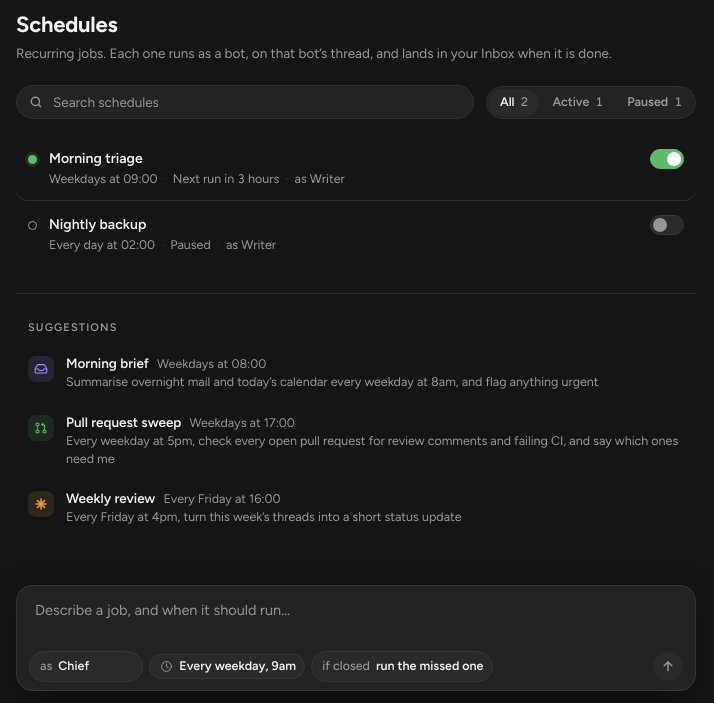
Test case: finding one in a list of them › filters to active and paused, and counts both
Click the button "Paused 1". click: (655, 102)
box: [616,89,693,116]
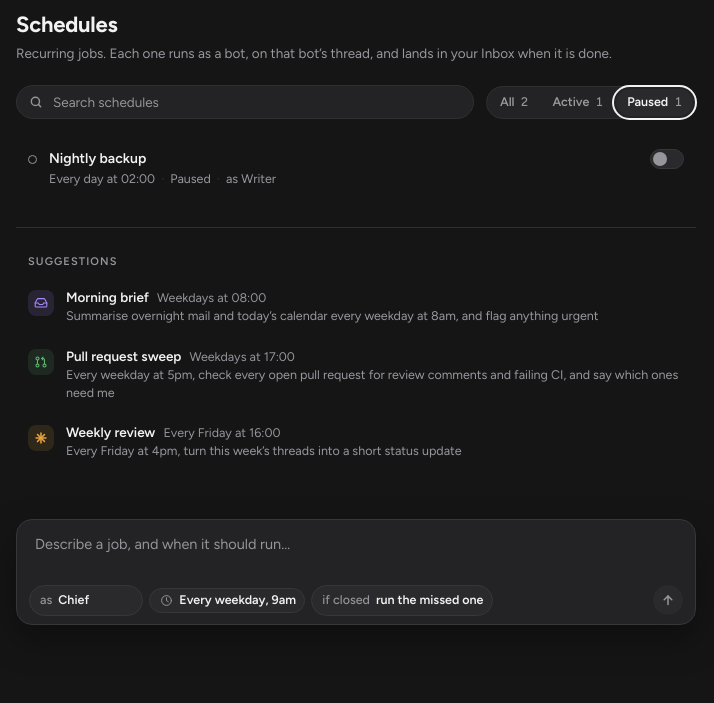
expect the text "Nightly backup" is shown: met, box [49,150,146,168]
expect the button "Morning triage" is gone: met
Click the button "Active 1". click: (578, 102)
box: [541,89,614,116]
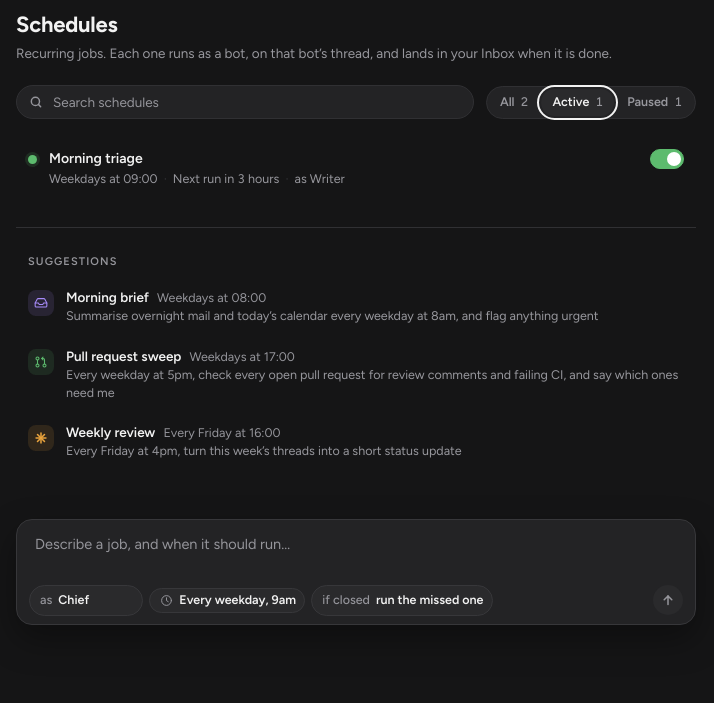
expect the text "Morning triage" is shown: met, box [49,150,143,168]
expect the button "Nightly backup" is gone: met
